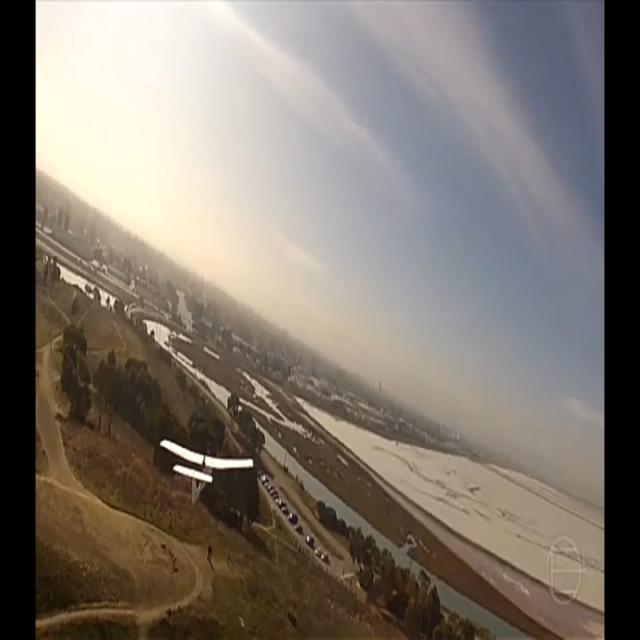iha: (191, 468, 223, 474)
